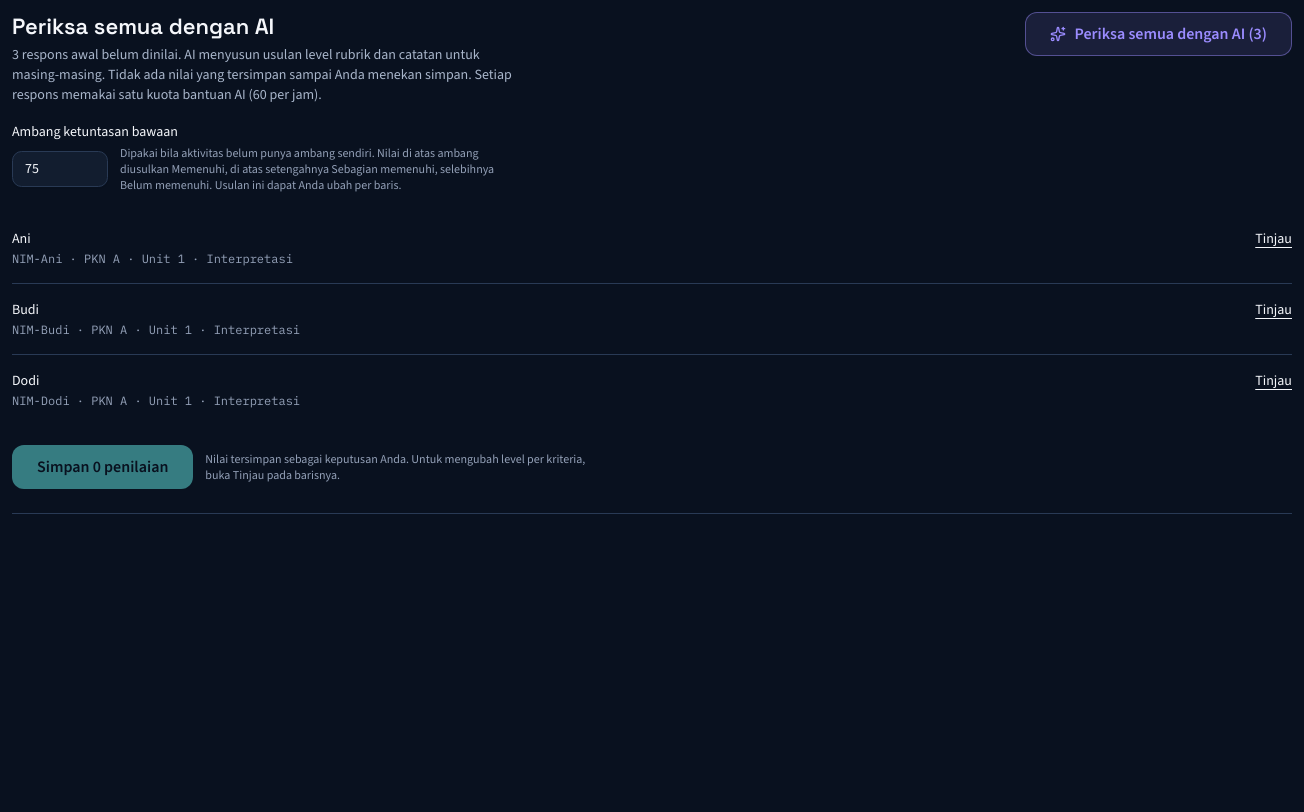
Scenario: BulkAiReview › berhenti ketika kuota AI habis dan menyisakan respons untuk nanti
Click the button "Periksa semua dengan AI (3)".
click(1159, 34)  # box [1026,12,1292,56]
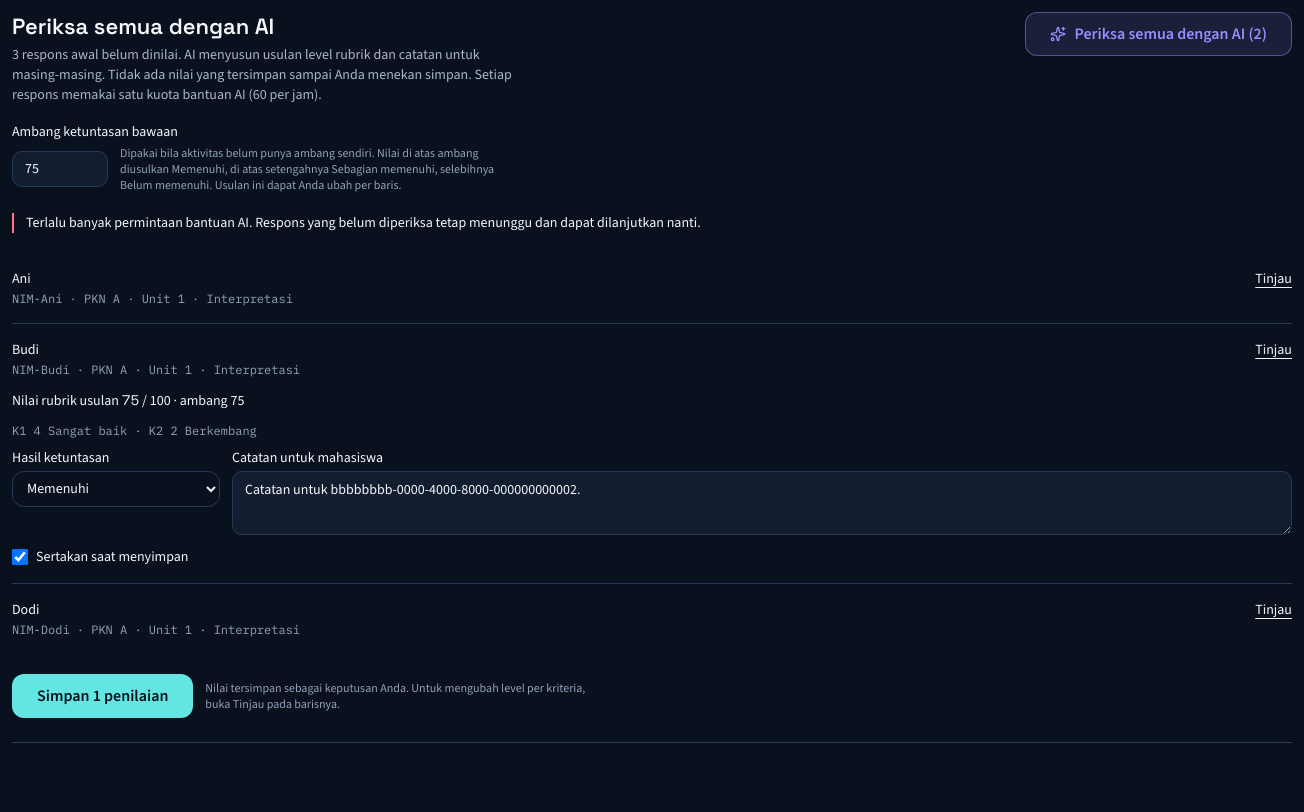
Expected: the message shows "Terlalu banyak permintaan bantuan AI.", [26,213,701,232]
